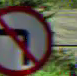Don't turn left: (1, 1, 55, 75)
